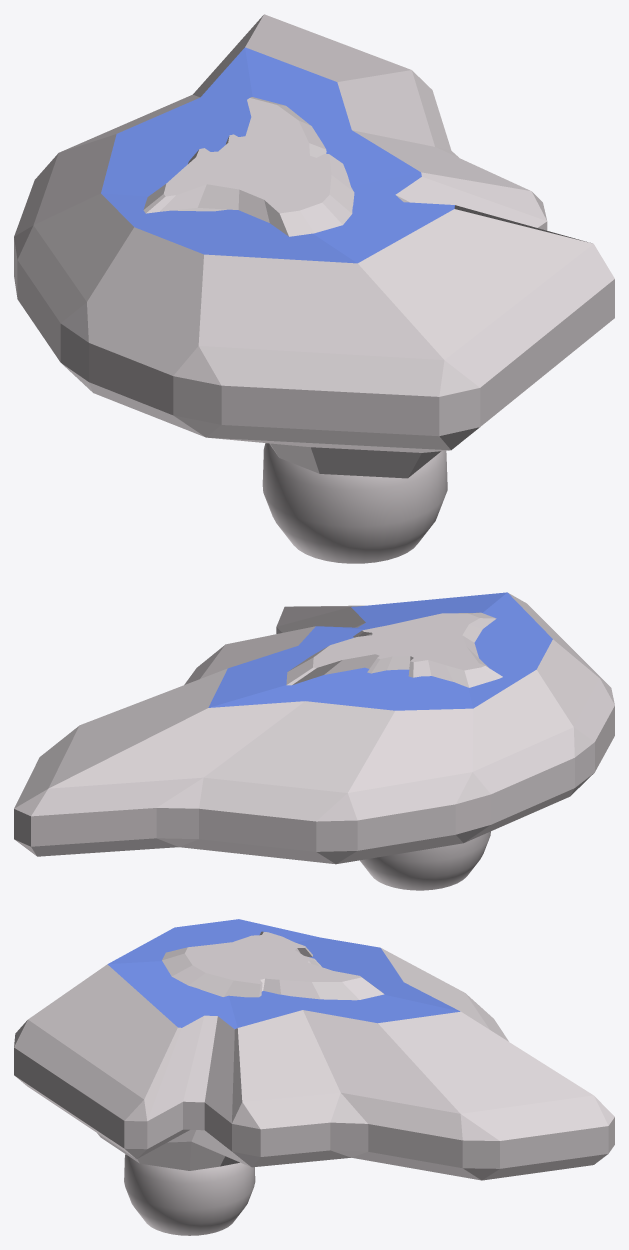
File: TWS Left.fbx
3 views of the same model, one above another, from view 1: azimuth 30°, elevation 25°; view 2: azimuth 150°, elevation 25°; view 3: azimuth 270°, elevation 25° (orthographic). The views are drawn at different scales.
Visible parts, largest first — view 1: TWS Left; view 2: TWS Left; view 3: TWS Left.
Boxes of the visible parts, box(x1,y1,x2,y2) form: TWS Left: box(14, 14, 614, 563); TWS Left: box(14, 592, 614, 890); TWS Left: box(14, 919, 614, 1235).
Bounding box in the file's own units: 692 × 449 × 979.
